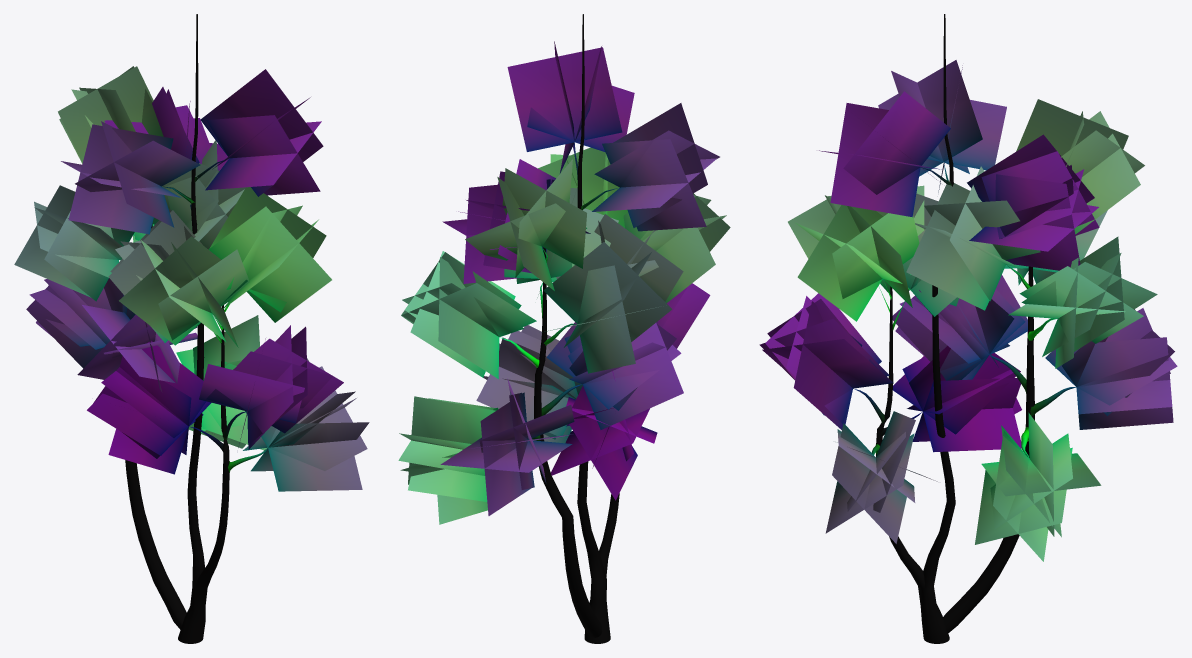
Rendered from URP_P6_Tree_8_LOD_0.fbx.
The picture shows the model from 3 angles, left to right: view 1: azimuth 30°, elevation 25°; view 2: azimuth 150°, elevation 25°; view 3: azimuth 270°, elevation 25°; orthographic projection.
Parts seen in each view (by area): view 1: Tree_8_LOD_0; view 2: Tree_8_LOD_0; view 3: Tree_8_LOD_0.
Boxes of the visible parts, x1,y1,x2,y2 form: Tree_8_LOD_0: (14, 14, 369, 643); Tree_8_LOD_0: (398, 14, 730, 643); Tree_8_LOD_0: (759, 14, 1177, 643).
Size of the model in its own units: 477 by 1112 by 670.
